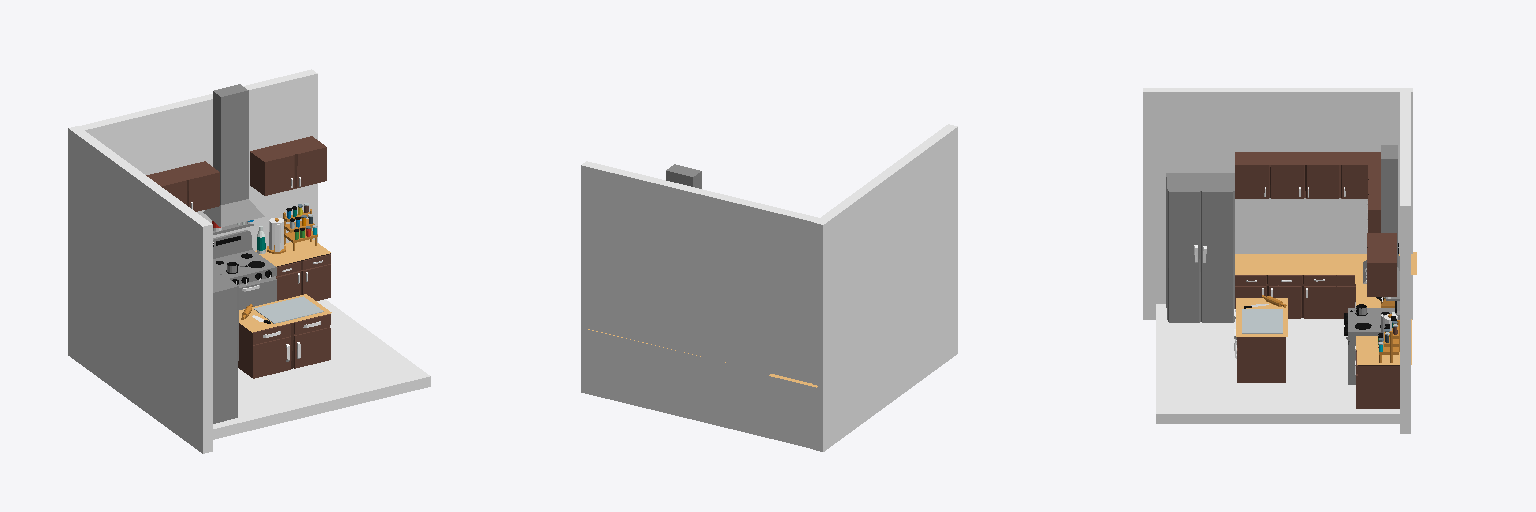
The picture shows the model from 3 angles: view 1: azimuth 30°, elevation 25°; view 2: azimuth 150°, elevation 25°; view 3: azimuth 270°, elevation 25°; orthographic projection.
Visible parts, largest first — view 1: group[number redacted], group[number redacted], group[number redacted], group[number redacted], group[number redacted], group[number redacted], group[number redacted], group[number redacted], group[number redacted], group[number redacted], group[number redacted], group[number redacted]; view 2: group[number redacted], group[number redacted], group[number redacted]; view 3: group[number redacted], group[number redacted], group[number redacted], group[number redacted], group[number redacted], group[number redacted], group[number redacted], group[number redacted], group[number redacted], group[number redacted], group[number redacted], group[number redacted] (+1 smaller).
Part boxes in pixels (x1,y1,x2,y2): group[number redacted]: (68, 126, 212, 453); group[number redacted]: (79, 69, 317, 250); group[number redacted]: (213, 299, 430, 439); group[number redacted]: (203, 84, 264, 226); group[number redacted]: (238, 294, 331, 378); group[number redacted]: (213, 267, 238, 423); group[number redacted]: (250, 136, 326, 195); group[number redacted]: (255, 239, 330, 300); group[number redacted]: (213, 230, 276, 309); group[number redacted]: (146, 161, 219, 211); group[number redacted]: (254, 296, 323, 323); group[number redacted]: (267, 218, 285, 253); group[number redacted]: (581, 161, 818, 448); group[number redacted]: (813, 124, 957, 451); group[number redacted]: (666, 164, 701, 188); group[number redacted]: (1143, 88, 1412, 319); group[number redacted]: (1156, 304, 1399, 423); group[number redacted]: (1166, 173, 1234, 322); group[number redacted]: (1235, 252, 1416, 318); group[number redacted]: (1235, 152, 1380, 198); group[number redacted]: (1400, 92, 1410, 433); group[number redacted]: (1355, 270, 1411, 408); group[number redacted]: (1236, 298, 1287, 382); group[number redacted]: (1367, 233, 1396, 296); group[number redacted]: (1363, 145, 1399, 283); group[number redacted]: (1348, 301, 1399, 384); group[number redacted]: (1242, 309, 1282, 333).
Size of the model in its own units: 1.95 by 1.81 by 1.9.